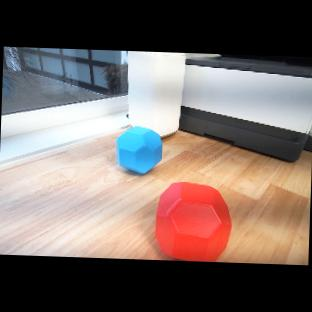V5_BLUE: (115, 126, 164, 176)
V5_RED: (153, 180, 234, 263)
